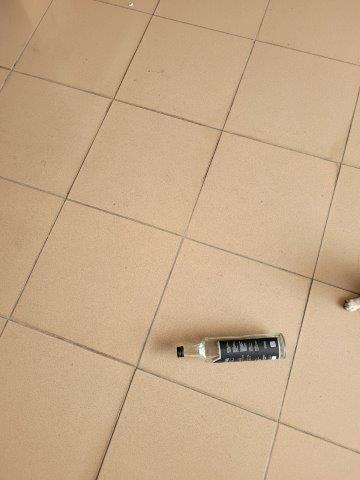botolkaca: (176, 335, 288, 361)
